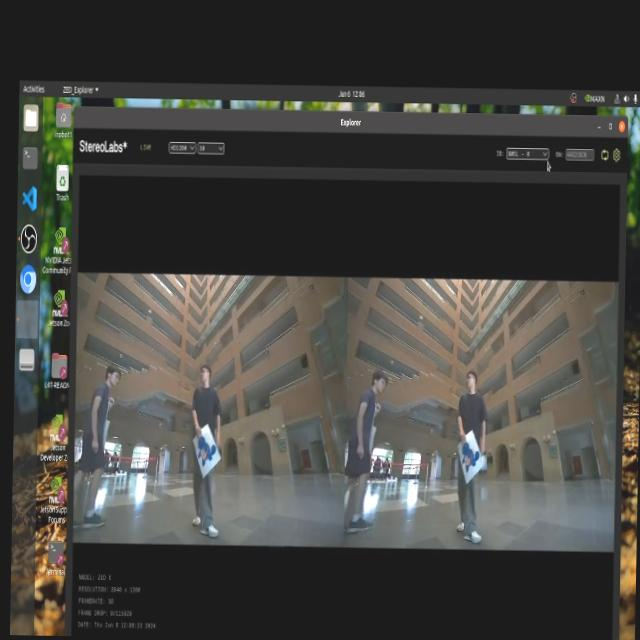blue: (456, 435, 484, 475), (196, 431, 218, 474)
